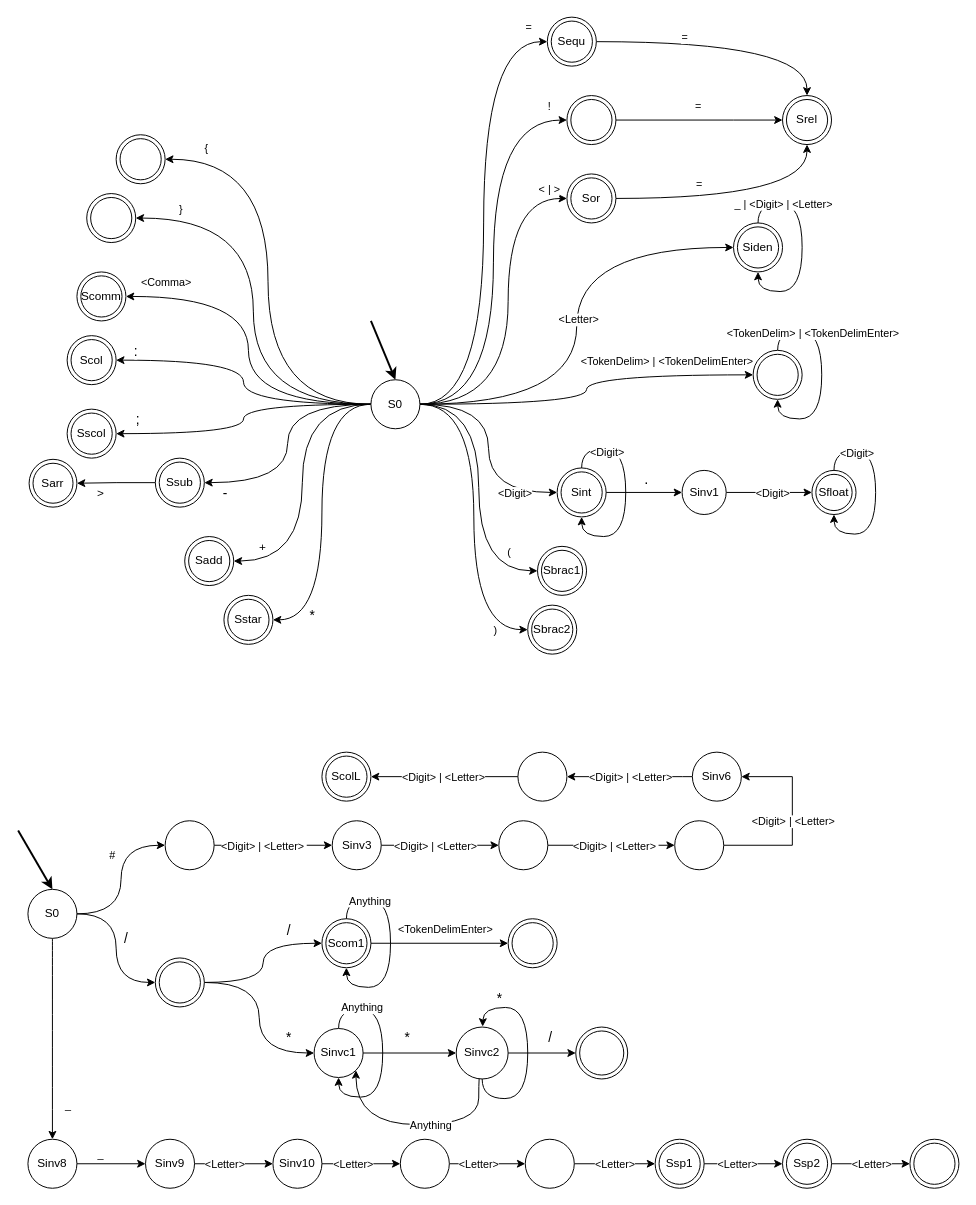
This 976x1205 diagram has some shape labels left out. The shapes that lost their labels are listed below. From the top down, each one's centre as x and y in pixels, then its label:
(x=591, y=120): Snot
(x=140, y=159): Sbrac3
(x=111, y=218): Sbrac4
(x=777, y=374): Sdelim
(x=542, y=776): Sinv7
(x=189, y=845): Sinv2
(x=523, y=845): Sinv4
(x=699, y=845): Sinv5
(x=532, y=943): Scom2
(x=179, y=982): Sdiv
(x=601, y=1052): Scom3
(x=424, y=1163): Sinv11
(x=549, y=1163): Sinv12
(x=934, y=1163): Ssp3
